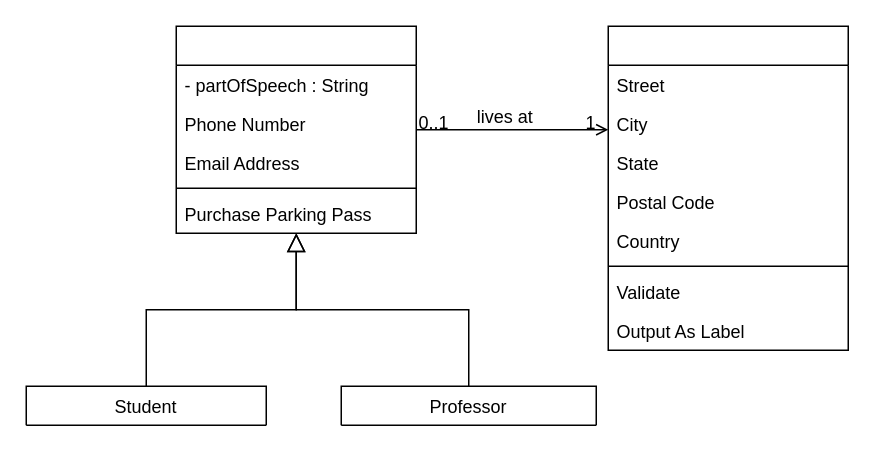
Some shapes in this 875 by 452 pixel diagram are drawn without their labels. The shapes that lost their labels are listed below. From the top down, each one's box as (x1, y1, x2, y2) in pixels, then its label:
(175, 25, 416, 233): word.Mean
(607, 25, 848, 350): Address
